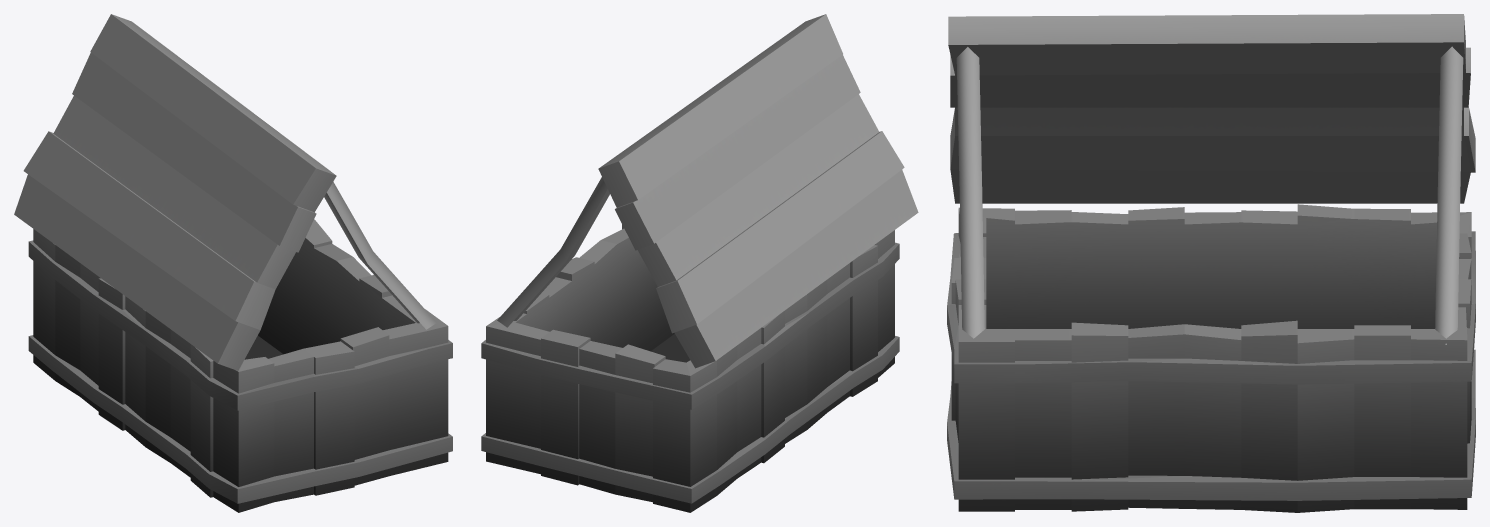
File: StorageChestOpen_MESH_02.fbx
3 views of the same model, side by side, from view 1: azimuth 30°, elevation 25°; view 2: azimuth 150°, elevation 25°; view 3: azimuth 270°, elevation 25° (orthographic). The views are drawn at different scales.
Visible parts, largest first — view 1: StorageChestOpen_MESH_02; view 2: StorageChestOpen_MESH_02; view 3: StorageChestOpen_MESH_02.
Part boxes in pixels (x1=…): StorageChestOpen_MESH_02: x1=14, y1=14, x2=452, y2=512; StorageChestOpen_MESH_02: x1=481, y1=14, x2=918, y2=512; StorageChestOpen_MESH_02: x1=947, y1=14, x2=1475, y2=512.
Bounding box in the file's own units: 215 × 288 × 333.
